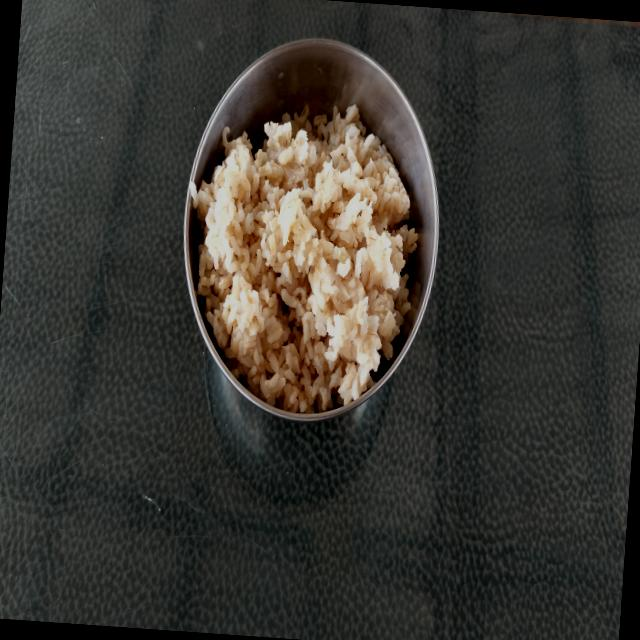brown-rice: (189, 104, 417, 414)
